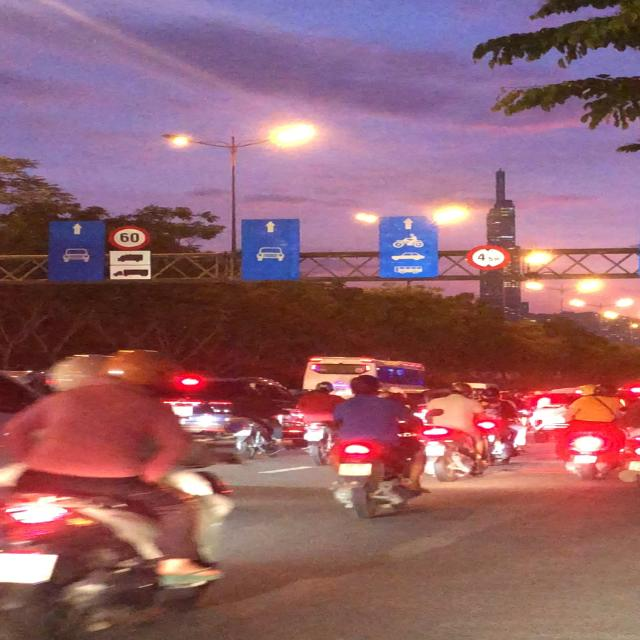Bien bao han che chieu cao: (466, 242, 510, 274)
Bien bao toc do toi da cho phep: (108, 222, 155, 250)
